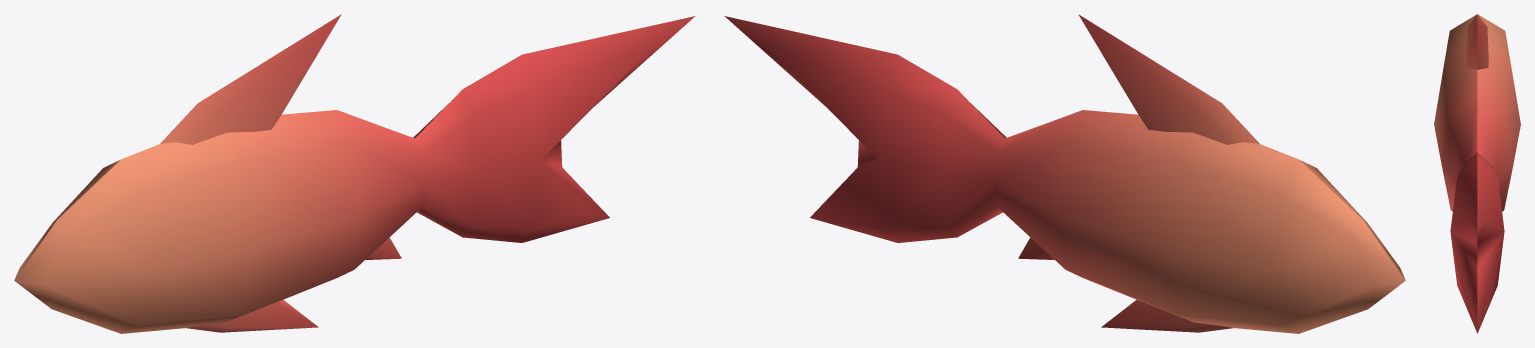
The model's file is Fish_001_Mesh_001.fbx.
3 views of the same model, side by side, from view 1: azimuth 30°, elevation 25°; view 2: azimuth 150°, elevation 25°; view 3: azimuth 270°, elevation 25° (orthographic). The views are drawn at different scales.
Visible parts, largest first — view 1: Fish_001_Mesh_001; view 2: Fish_001_Mesh_001; view 3: Fish_001_Mesh_001.
Boxes of the visible parts, <box> form: Fish_001_Mesh_001: <box>14,14,695,333</box>; Fish_001_Mesh_001: <box>724,14,1405,333</box>; Fish_001_Mesh_001: <box>1434,14,1520,333</box>.
Bounding box in the file's own units: 348 × 150 × 50.01.
